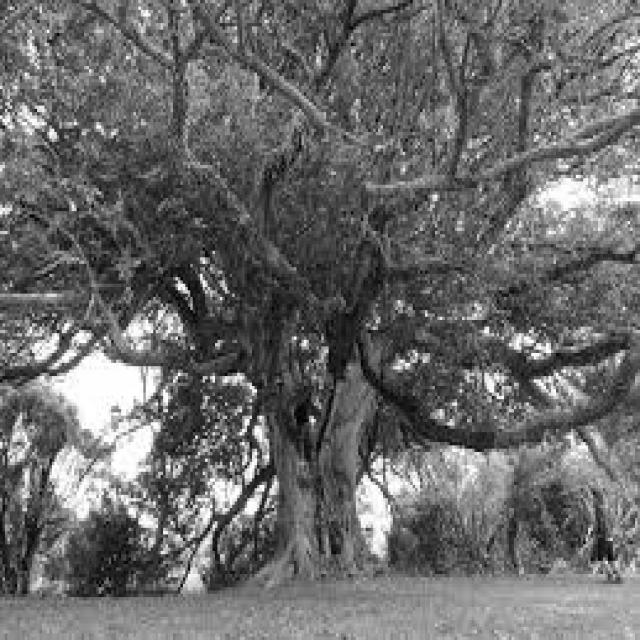Puriri: (1, 0, 640, 577)
